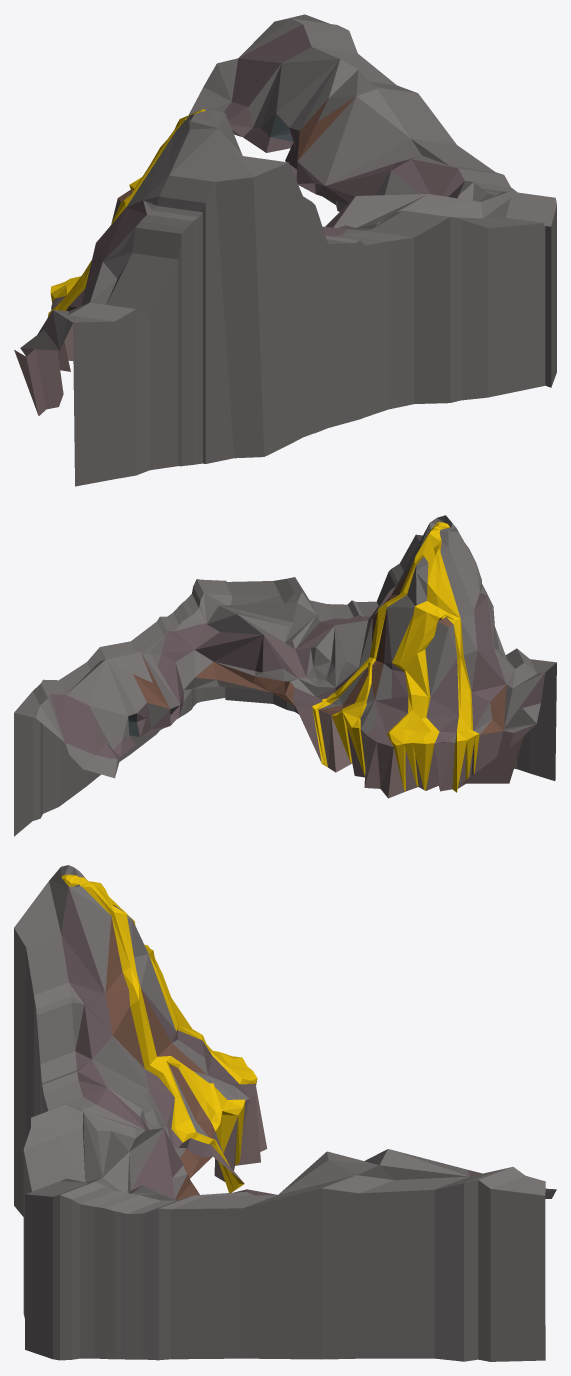
Rendered from mountain01.fbx.
3 renders of one model, top to bottom at view 1: azimuth 30°, elevation 25°; view 2: azimuth 150°, elevation 25°; view 3: azimuth 270°, elevation 25°, orthographic. The views are drawn at different scales.
Visible parts, largest first — view 1: Mountain01; view 2: Mountain01; view 3: Mountain01.
Boxes of the visible parts, x1,y1,x2,y2 form: Mountain01: (14, 14, 556, 486); Mountain01: (14, 515, 556, 836); Mountain01: (14, 865, 556, 1361).
Bounding box in the file's own units: 1.1 × 0.7165 × 1.06.
